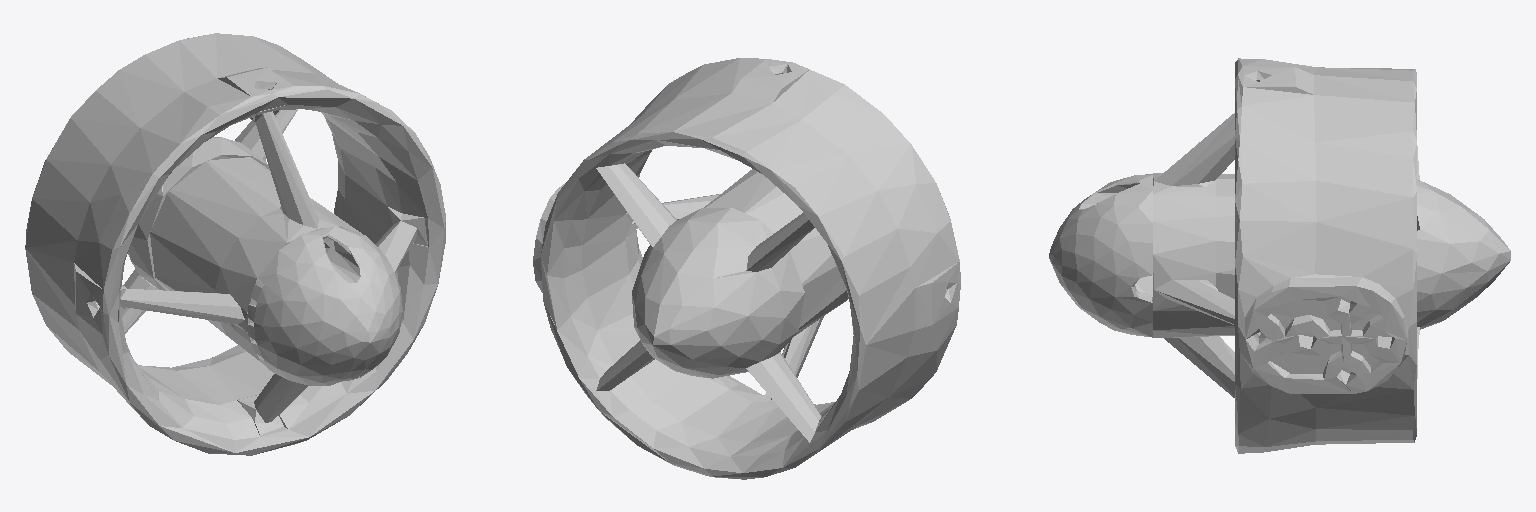
The model's file is duct_right_up_rear.obj.
3 renders of one model, left to right at view 1: azimuth 30°, elevation 25°; view 2: azimuth 150°, elevation 25°; view 3: azimuth 270°, elevation 25°, orthographic.
Visible parts, largest first — view 1: duct_right_up_rear; view 2: duct_right_up_rear; view 3: duct_right_up_rear.
Boxes of the visible parts, <box> form: duct_right_up_rear: <box>25,33,445,455</box>; duct_right_up_rear: <box>533,58,960,479</box>; duct_right_up_rear: <box>1049,58,1510,453</box>.
Size of the model in its own units: 0.0974 by 0.0967 by 0.1129.